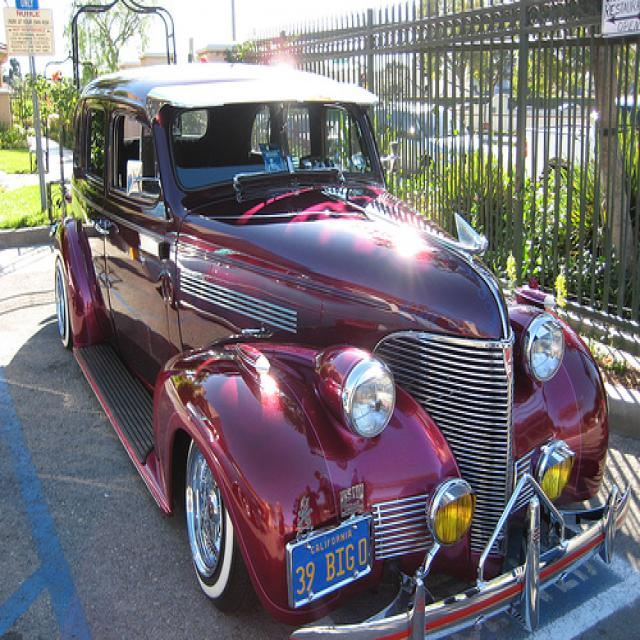Car: (53, 58, 637, 640)
